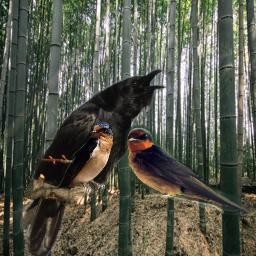Crow: (19, 65, 169, 256)
Swallow: (125, 125, 250, 214), (57, 122, 113, 194)
